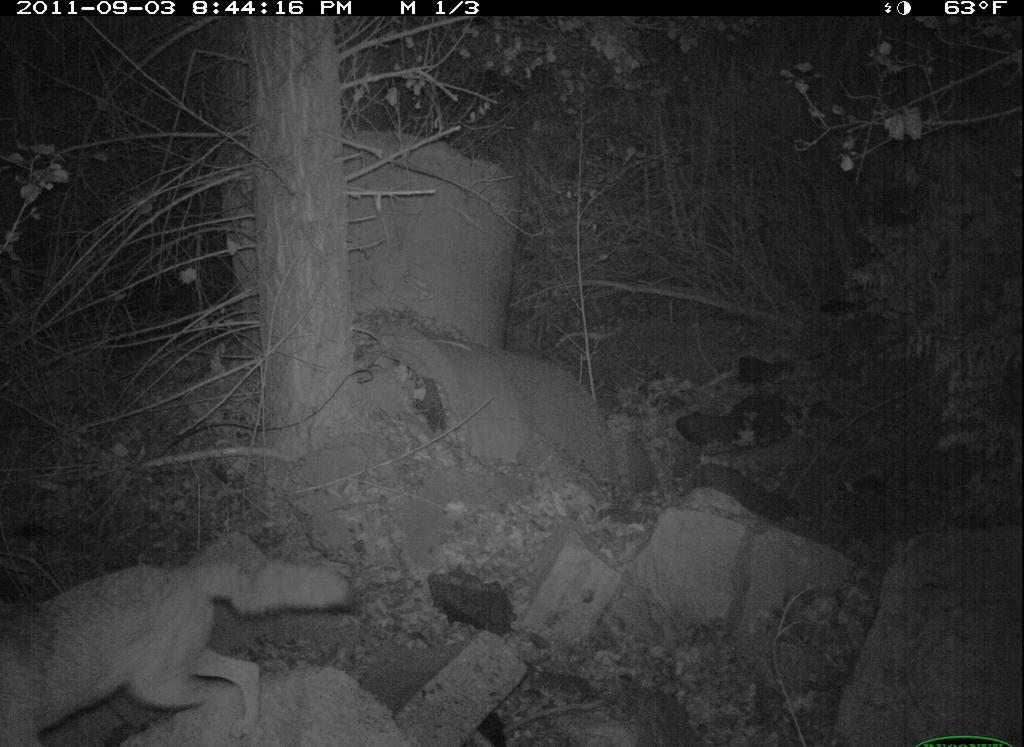coyote: (1, 532, 361, 745)
